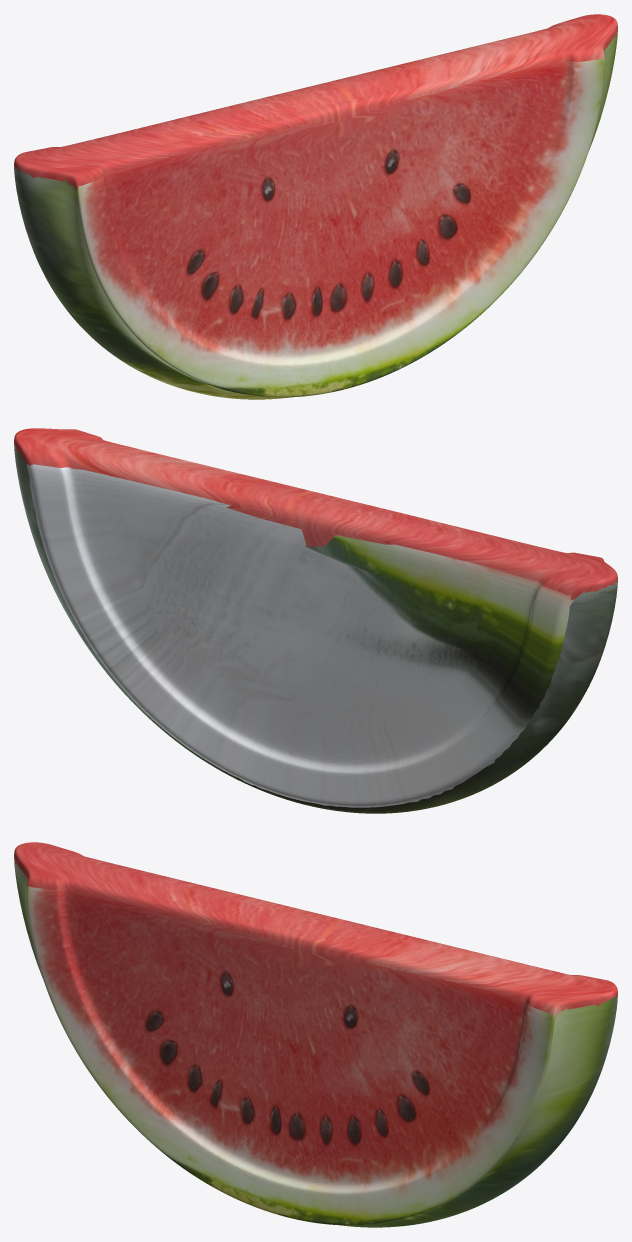
File: watermelon.glb
3 renders of one model, top to bottom at view 1: azimuth 30°, elevation 25°; view 2: azimuth 150°, elevation 25°; view 3: azimuth 330°, elevation 25°, orthographic.
Parts seen in each view (by area): view 1: Cylinder; view 2: Cylinder; view 3: Cylinder.
Boxes of the visible parts, x1=… form: Cylinder: x1=14, y1=14, x2=617, y2=399; Cylinder: x1=14, y1=428, x2=617, y2=813; Cylinder: x1=14, y1=842, x2=617, y2=1227.
Size of the model in its own units: 0.539 by 0.257 by 0.0703.
1 material, 1 textured.
